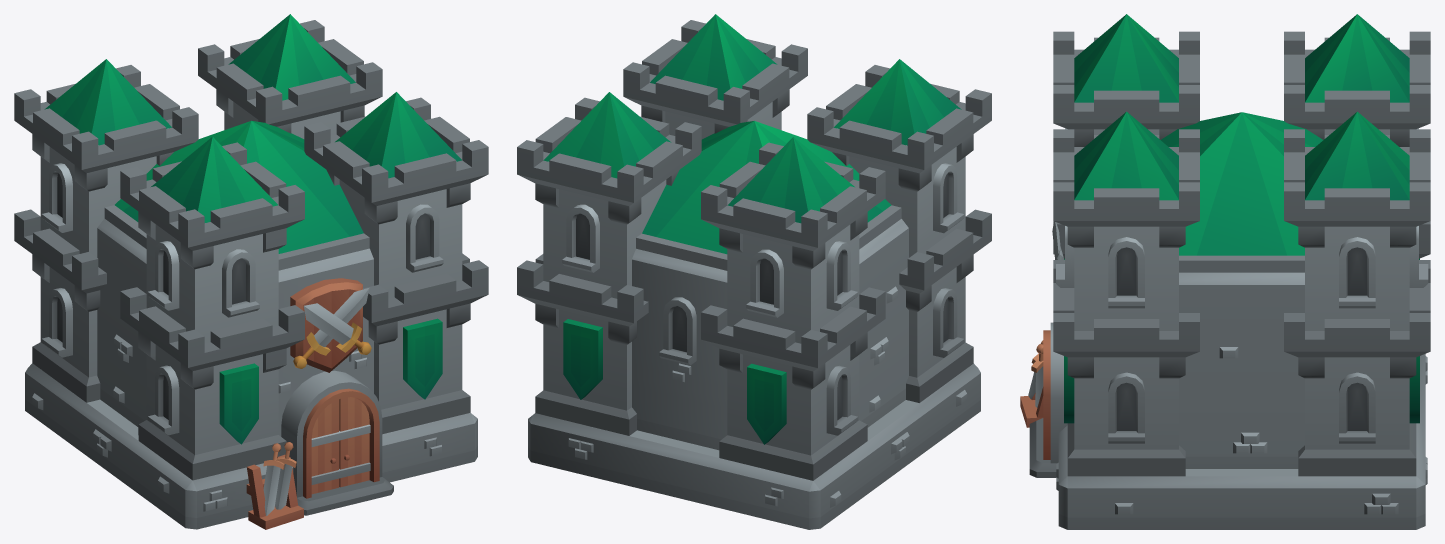
The model's file is building_barracks_green.glb.
The picture shows the model from 3 angles, left to right: view 1: azimuth 30°, elevation 25°; view 2: azimuth 150°, elevation 25°; view 3: azimuth 270°, elevation 25°; orthographic projection. The views are drawn at different scales.
Visible parts, largest first — view 1: building_barracks_green; view 2: building_barracks_green; view 3: building_barracks_green.
Boxes of the visible parts, x1=… form: building_barracks_green: x1=14, y1=14, x2=488, y2=529; building_barracks_green: x1=517, y1=14, x2=991, y2=529; building_barracks_green: x1=1020, y1=14, x2=1430, y2=529.
Bounding box in the file's own units: 1.44 × 1.64 × 1.57.
Materials: 1 (1 with a texture image).
